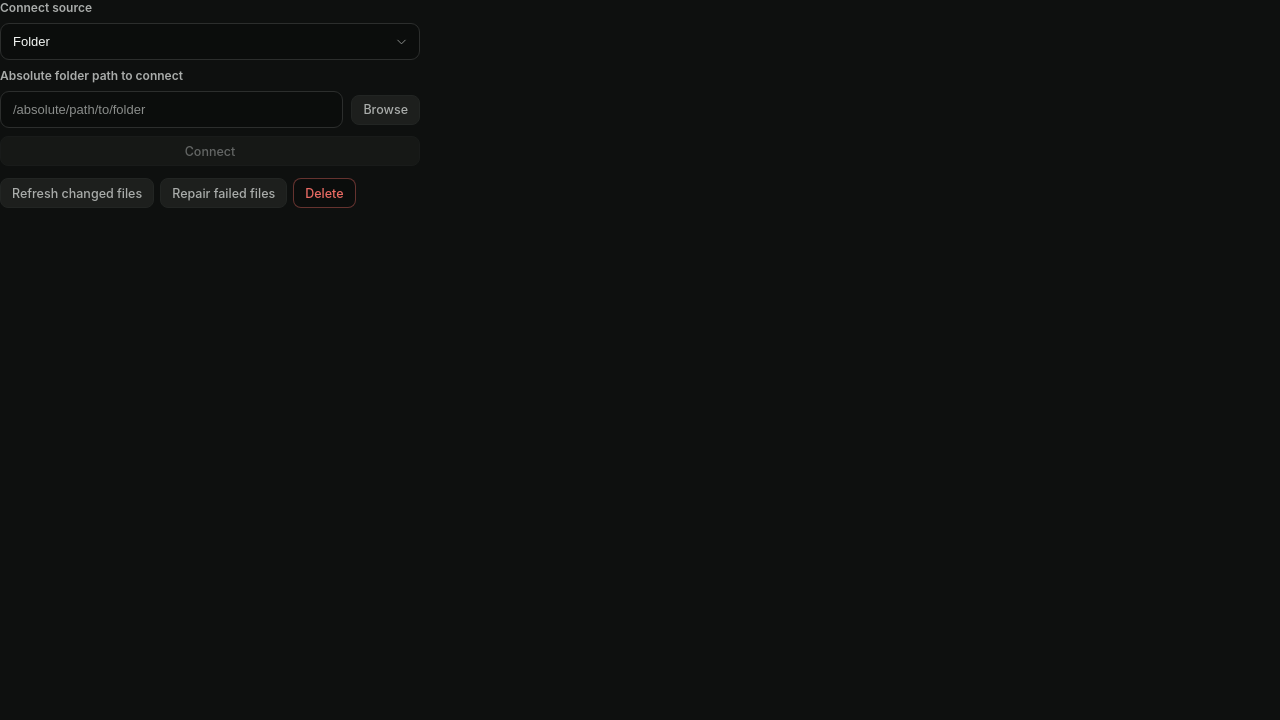
it: CapsuleActions — modal open and close › opens the refresh modal when Refresh changed files is clicked
Step 1. Click the button with aria-label "refresh changed files for capsule" → (77, 193), box x1=0 y1=178 x2=154 y2=208
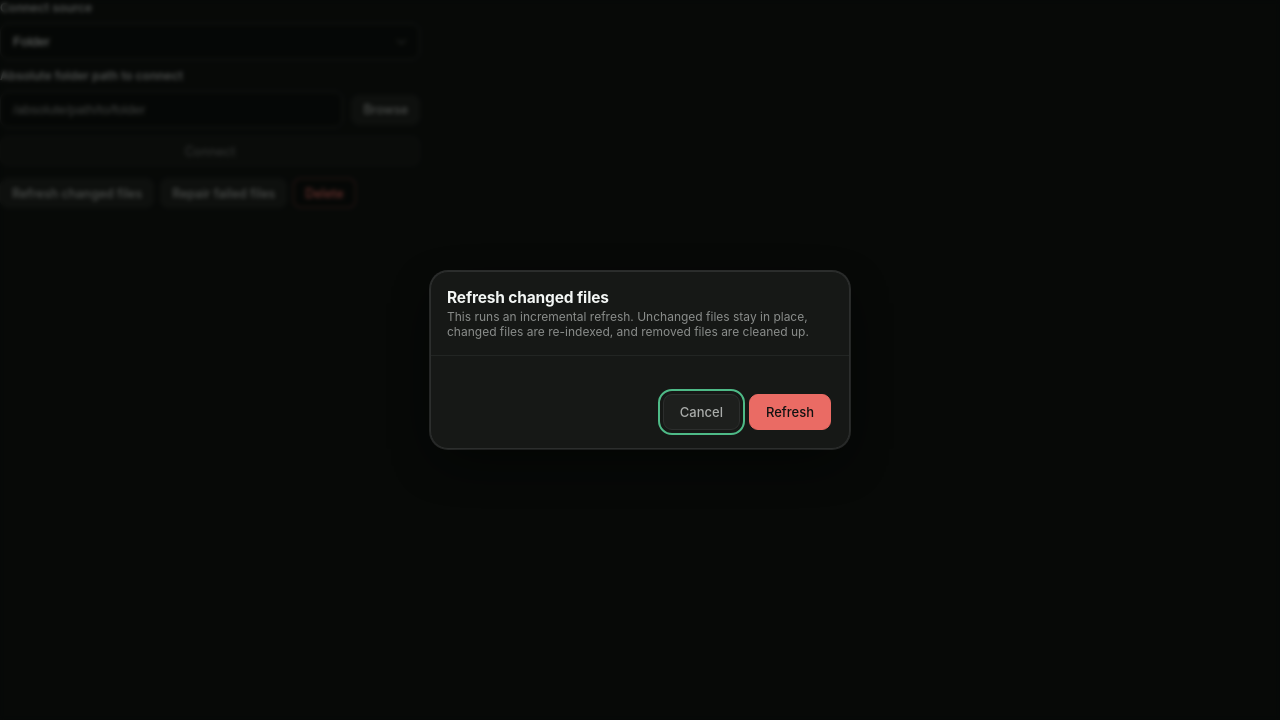
Result: the dialog is shown at x1=430 y1=271 x2=850 y2=449
Result: the text "Refresh changed files" is shown at x1=447 y1=288 x2=609 y2=307
